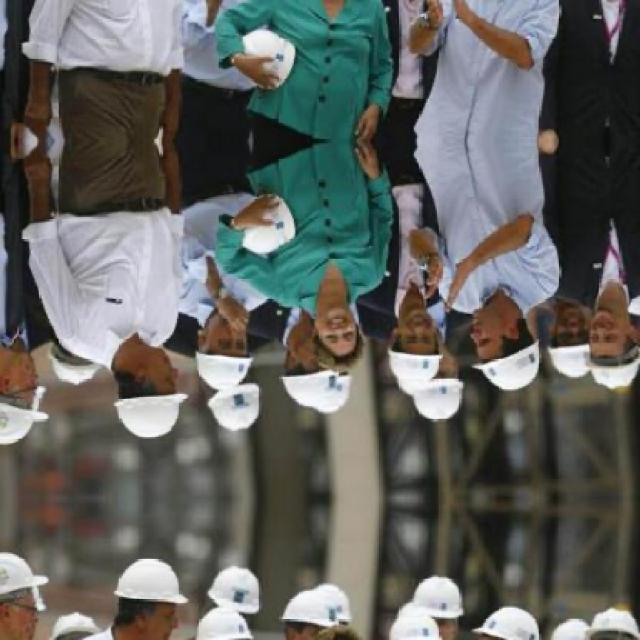con casco: (95, 329, 185, 443), (451, 295, 545, 399), (0, 344, 55, 451), (195, 300, 266, 378), (576, 303, 636, 389), (269, 342, 341, 411), (541, 312, 608, 380), (391, 304, 439, 386), (202, 383, 258, 439), (417, 360, 462, 424)
sin casco: (296, 288, 370, 370)
